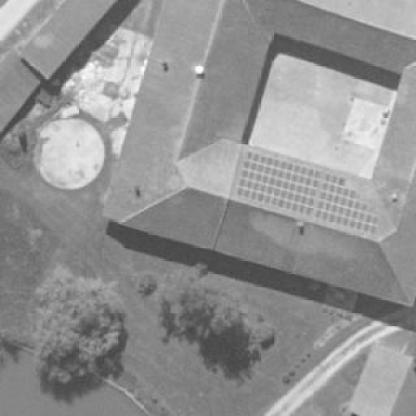solar-pv-panel: (237, 151, 322, 216), (313, 173, 380, 234)
